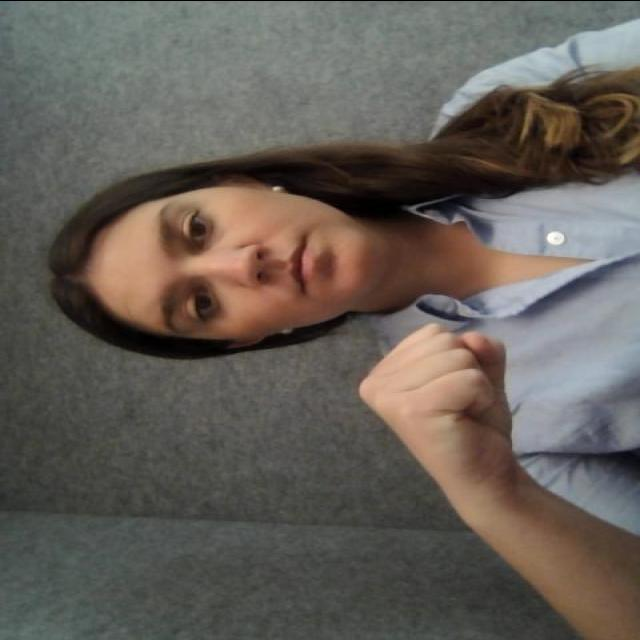Rock: (370, 302, 536, 508)
